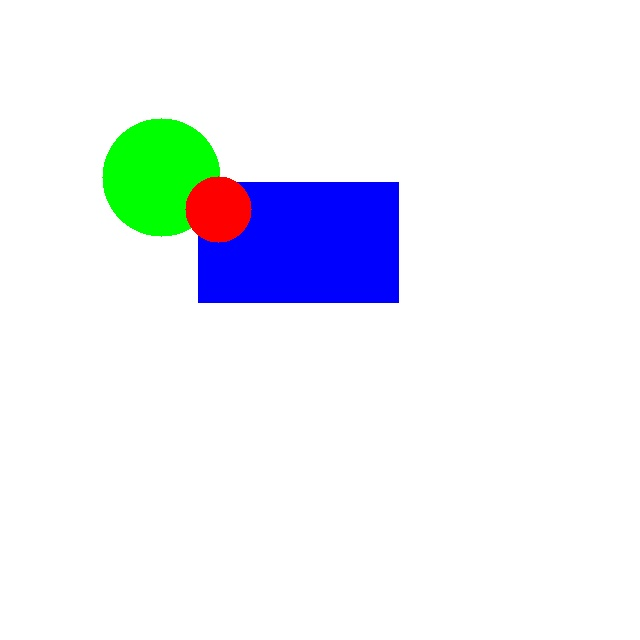cartao: (198, 182, 398, 302)
rosca_externa: (102, 118, 220, 236)
rosca_interna: (185, 176, 251, 242)
